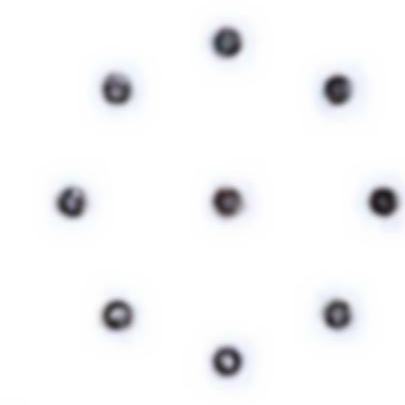cancer: (301, 49, 372, 125), (195, 167, 265, 231), (303, 287, 370, 351), (193, 330, 261, 392), (198, 14, 270, 71), (347, 166, 405, 234), (34, 174, 101, 230), (93, 50, 149, 113), (90, 283, 143, 339)
